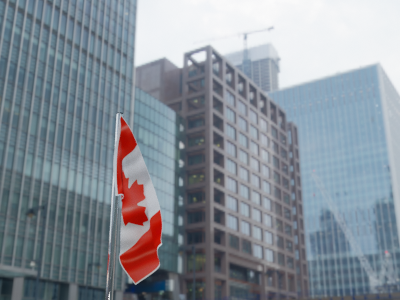Canada flag: (114, 115, 164, 287)
